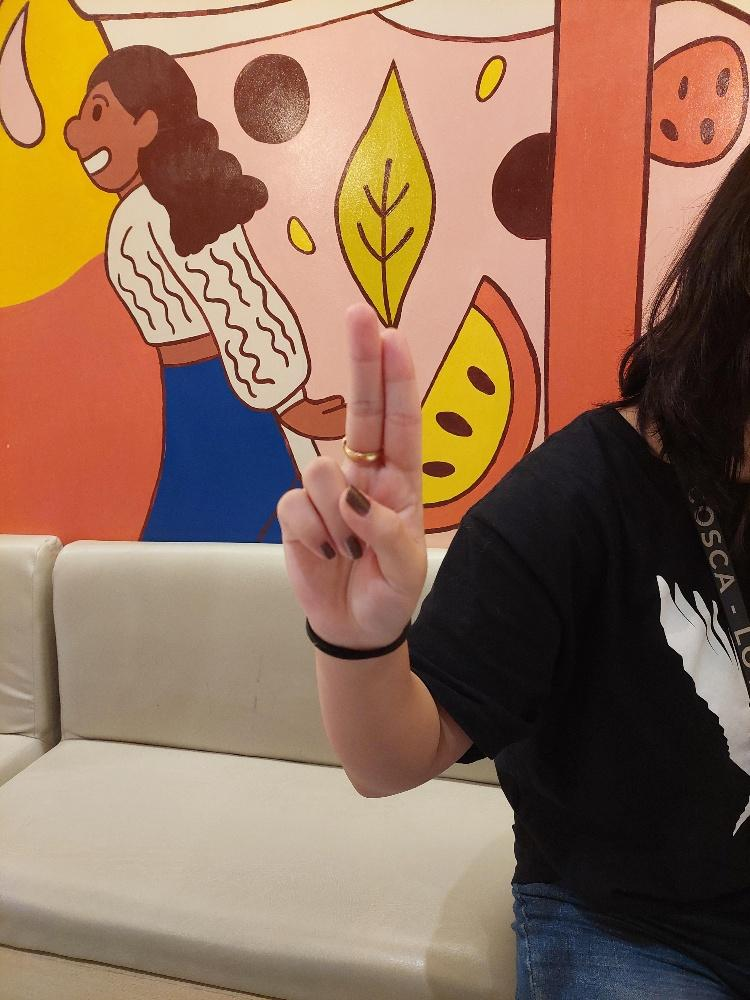u: (273, 297, 428, 647)
